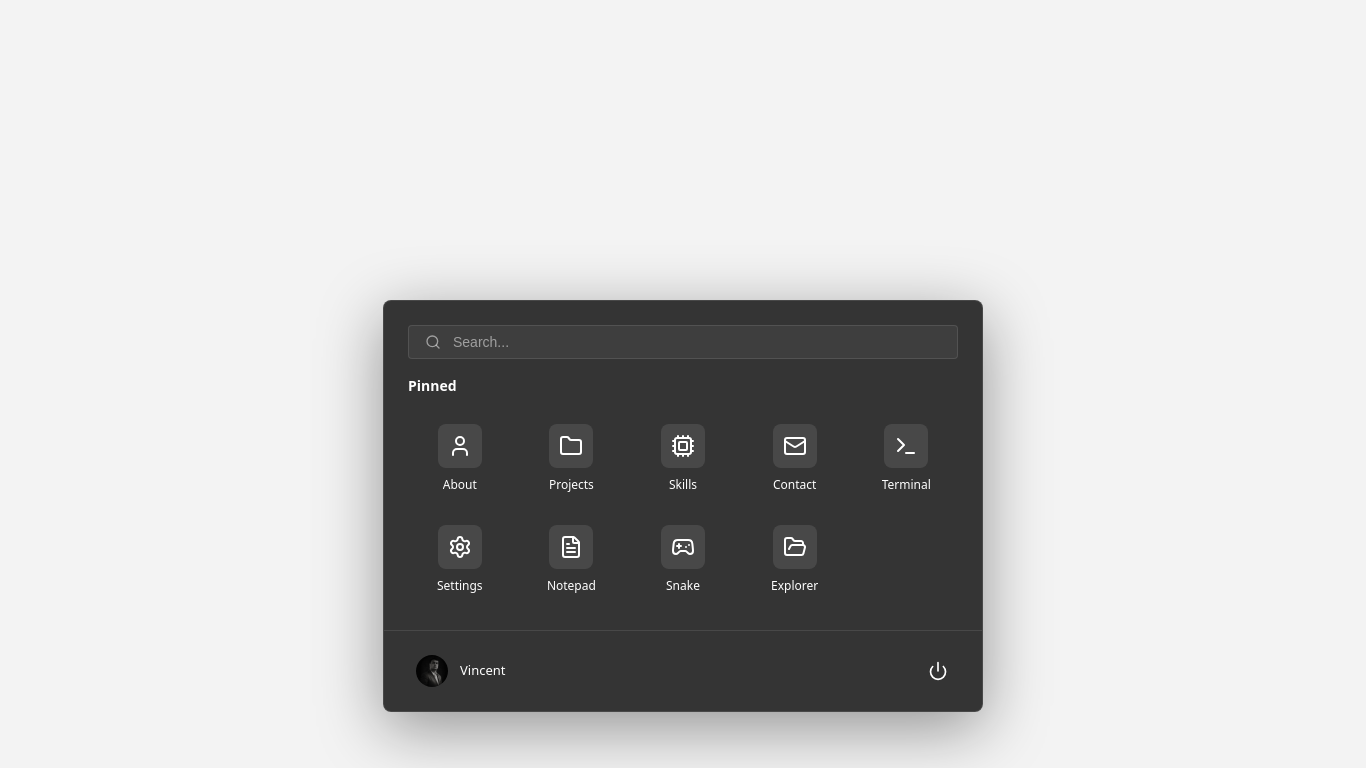
Scenario: StartMenu › search functionality › should show all apps when clearing search
The width and height of the screenshot is (1366, 768).
Type "note" into the field at (697, 342), box [453,334,941,350]
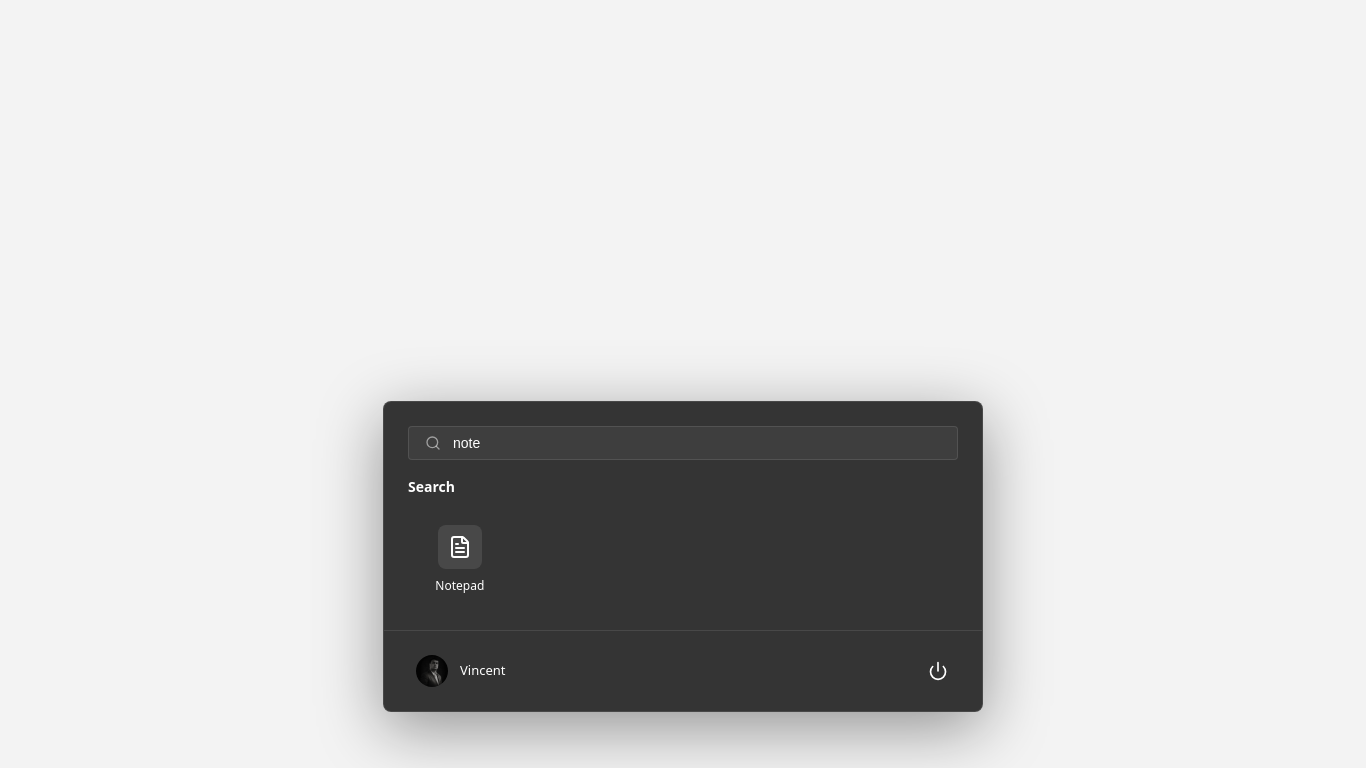
Clear the field at (697, 443), box [453,435,941,451]
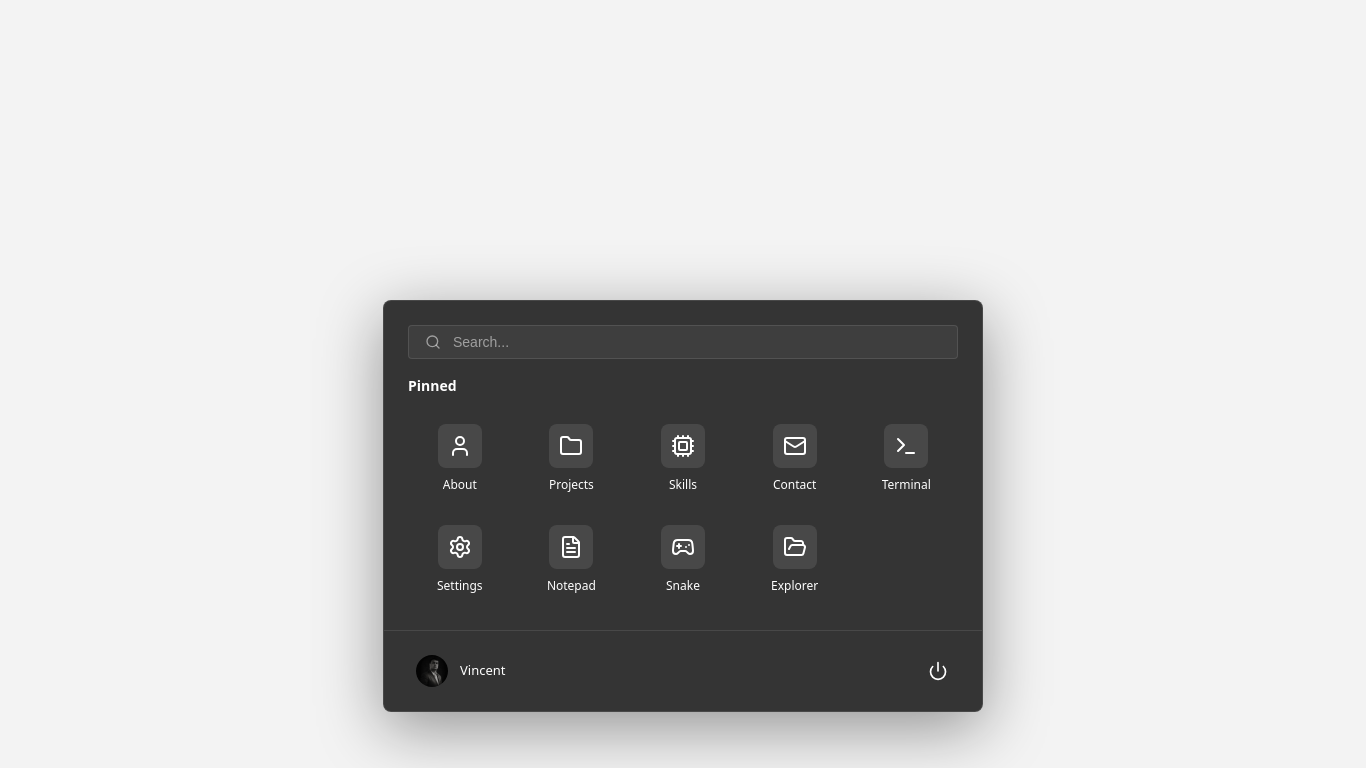
Now the list item with aria-label "Open Terminal" is shown, box [854,412,958,505]
Now the heading "Pinned" is shown, box [408,375,457,396]
